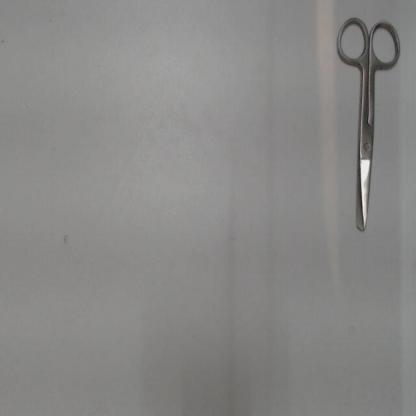Dressing Scissors: (328, 10, 408, 240)
